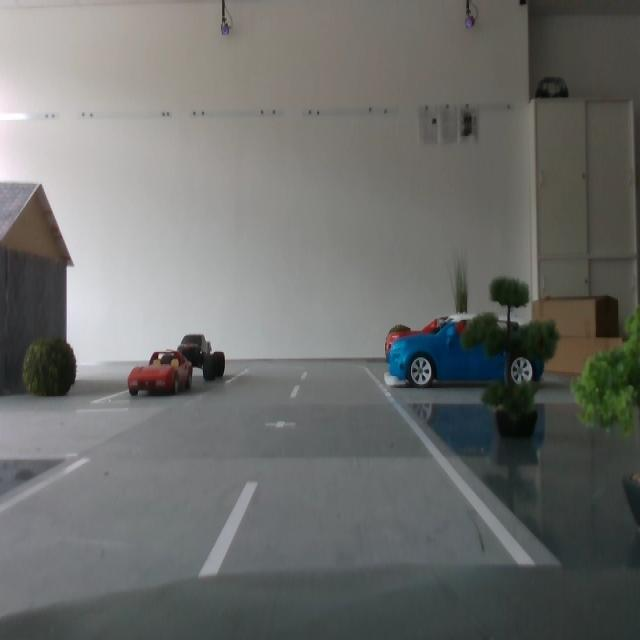car: (388, 313, 545, 388), (383, 315, 540, 382), (128, 349, 193, 397), (173, 331, 228, 385)
potted plant: (566, 298, 640, 532), (461, 277, 563, 441), (21, 331, 80, 401), (449, 251, 470, 346), (385, 323, 414, 359)
